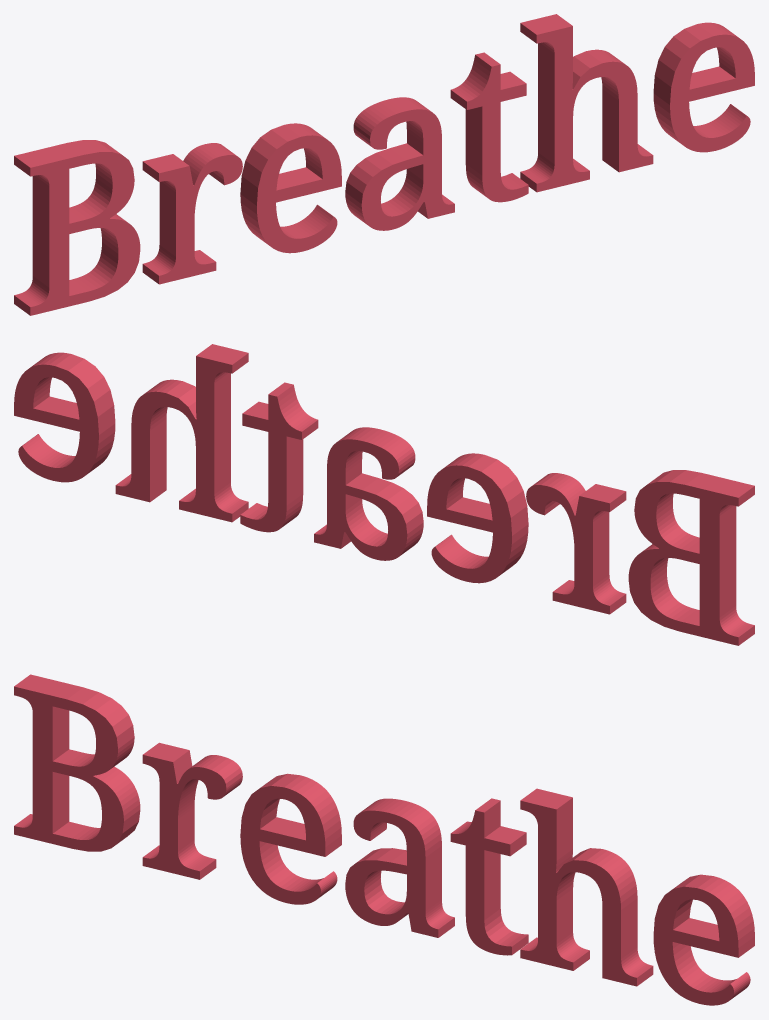
Rendered from breathe.fbx.
3 views of the same model, one above another, from view 1: azimuth 30°, elevation 25°; view 2: azimuth 150°, elevation 25°; view 3: azimuth 330°, elevation 25° (orthographic).
Visible parts, largest first — view 1: tinker1:group_0_15277357; view 2: tinker1:group_0_15277357; view 3: tinker1:group_0_15277357.
Part boxes in pixels (box(x1,y1,x2,y2)): tinker1:group_0_15277357: box(14, 14, 754, 315); tinker1:group_0_15277357: box(14, 344, 754, 645); tinker1:group_0_15277357: box(14, 674, 754, 1005).
Size of the model in its own units: 102 by 21.38 by 4.
